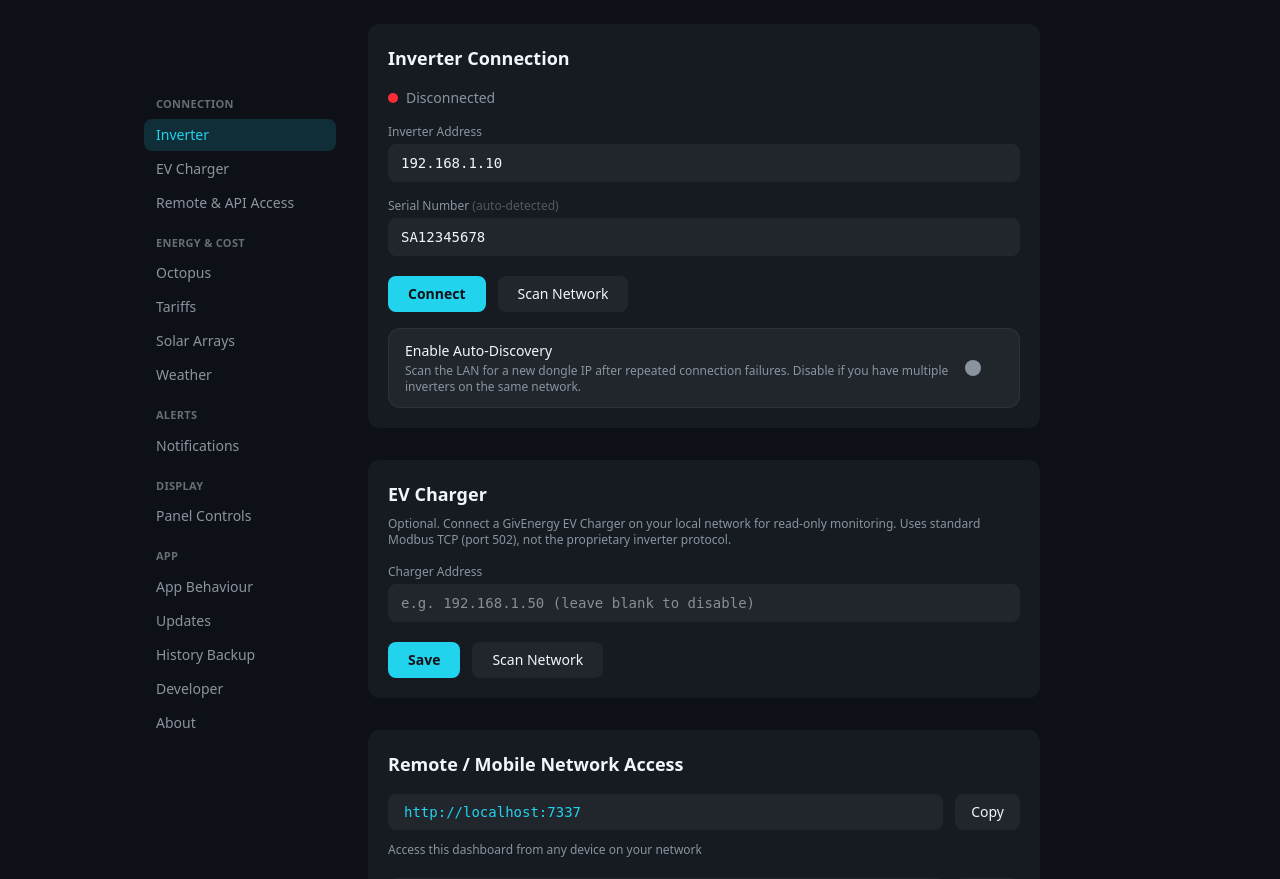
<SettingsPage/> — EV charger › saves the address, tells the store, and resets cached charger state
In the field with placeholder "e.g. 192.168.1.50 (leave blank to disable)": x=704, y=603 [388,584,1020,622], type "192.168.1.60"
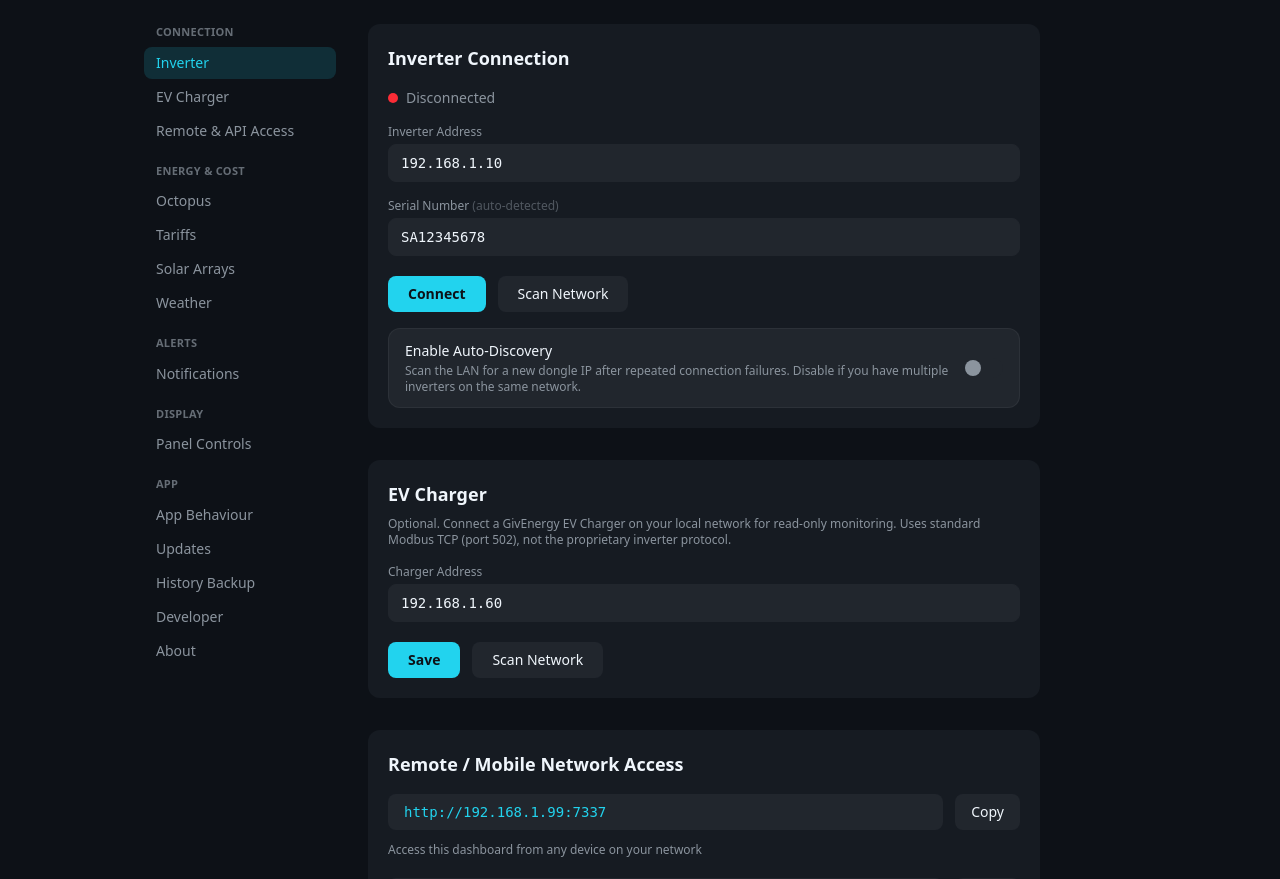
Click the button "Save": x=424, y=660 [388,642,460,678]
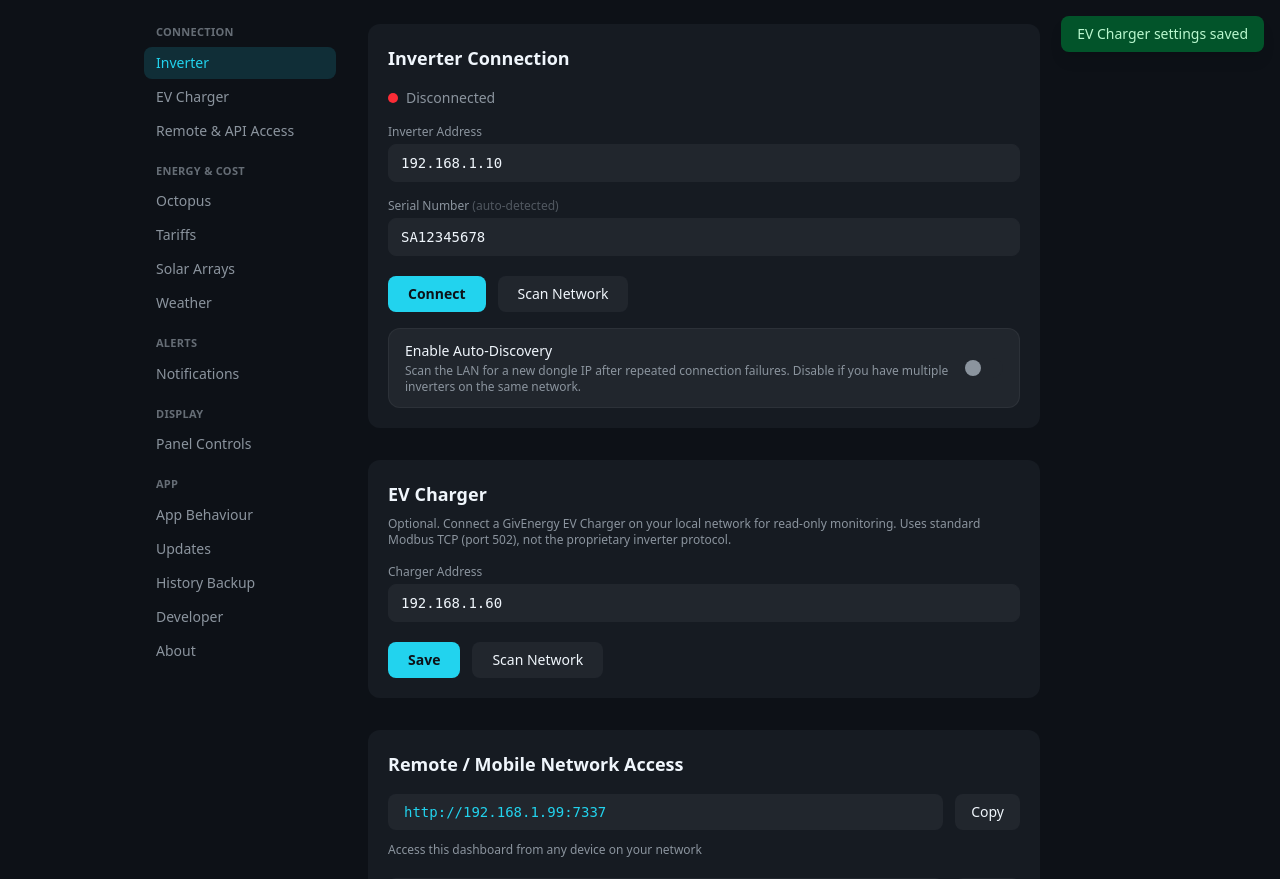
Now the text "EV Charger settings saved" is shown, box [1061,16,1264,52]
